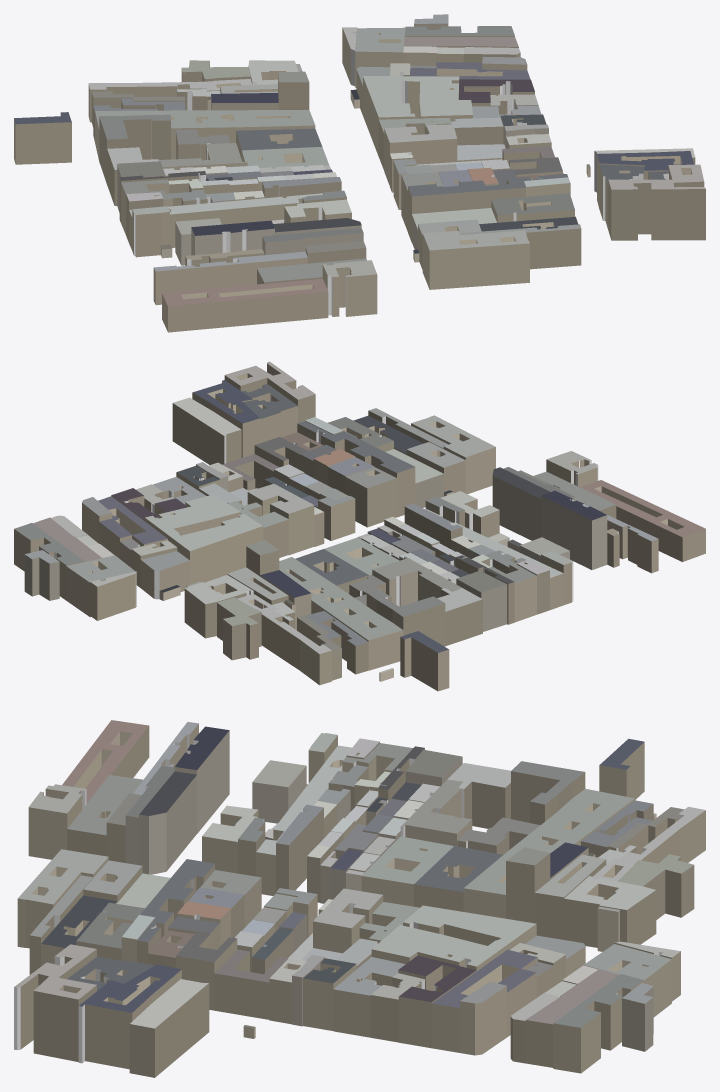
3 views of the same model, one above another, from view 1: azimuth 30°, elevation 25°; view 2: azimuth 150°, elevation 25°; view 3: azimuth 270°, elevation 25° (orthographic). The views are drawn at different scales.
Parts seen in each view (by area): view 1: tuile; view 2: tuile; view 3: tuile.
Part boxes in pixels (bbox=[...]): tuile: bbox=[14, 14, 705, 332]; tuile: bbox=[14, 361, 705, 691]; tuile: bbox=[14, 720, 705, 1077].
Bounding box in the file's own units: 311 × 33.17 × 280.
